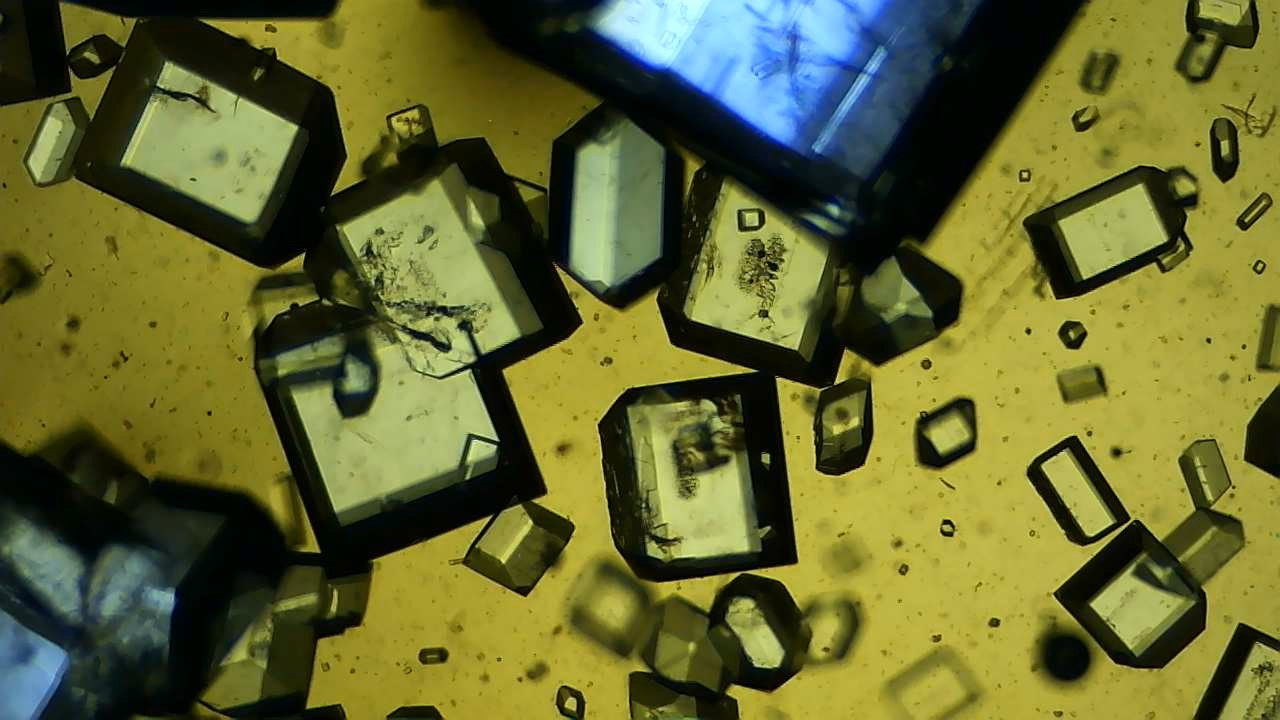crystal: (253, 282, 549, 576), (67, 14, 350, 271), (311, 135, 586, 380), (658, 157, 867, 389), (597, 371, 798, 583), (549, 98, 685, 313), (1053, 519, 1207, 670), (1021, 164, 1187, 300), (706, 573, 815, 695), (462, 490, 576, 598), (1026, 435, 1133, 547), (1129, 507, 1249, 600), (22, 96, 94, 188), (814, 379, 875, 476), (627, 669, 740, 720), (909, 394, 978, 470), (1176, 438, 1235, 512), (1184, 1, 1260, 53), (1209, 117, 1240, 187), (1235, 193, 1274, 232), (555, 684, 589, 720), (1057, 320, 1090, 351), (1070, 105, 1101, 134), (416, 644, 451, 666)
